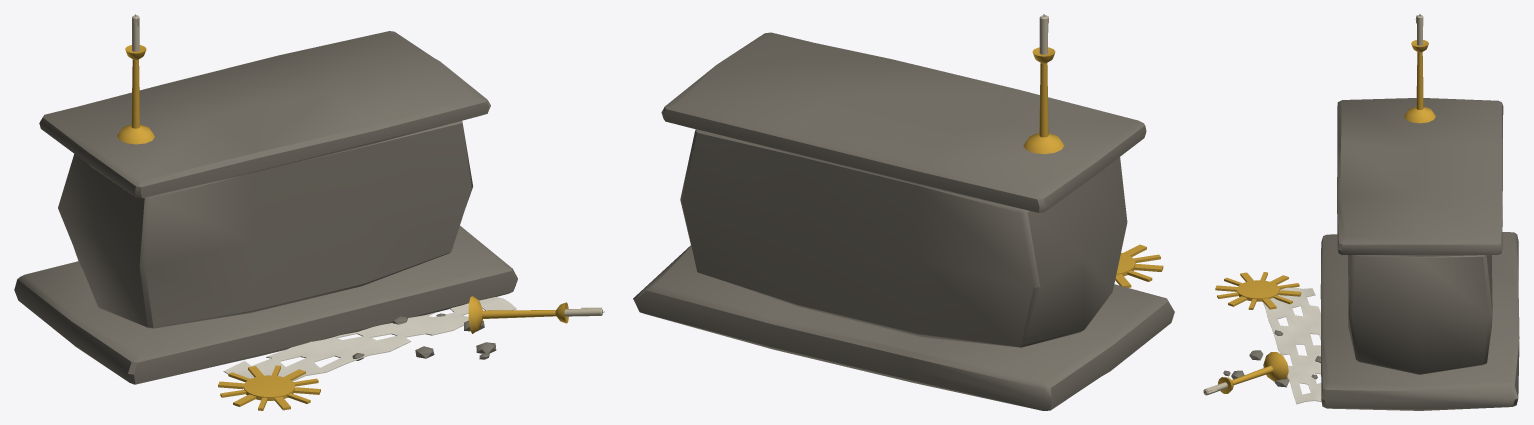
The model's file is altar_kaputt.glb.
3 views of the same model, side by side, from view 1: azimuth 30°, elevation 25°; view 2: azimuth 150°, elevation 25°; view 3: azimuth 270°, elevation 25° (orthographic). The views are drawn at different scales.
Parts seen in each view (by area): view 1: altar_kaputt; view 2: altar_kaputt; view 3: altar_kaputt.
Boxes of the visible parts, bbox=[...] form: altar_kaputt: bbox=[14, 14, 604, 410]; altar_kaputt: bbox=[633, 14, 1174, 410]; altar_kaputt: bbox=[1203, 14, 1519, 410].
Bounding box in the file's own units: 2.18 × 1.65 × 1.76.
